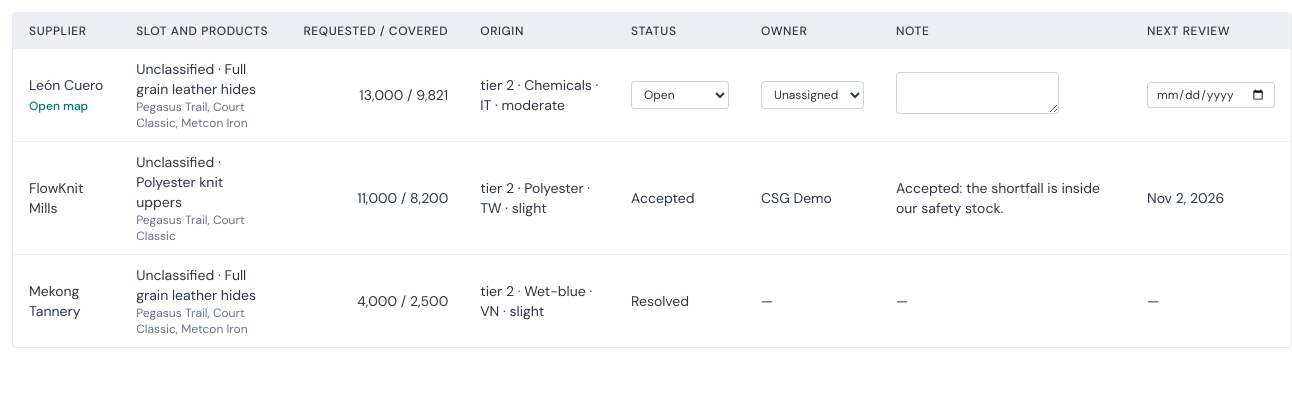
Test: SupplyRisksTable › the owner select (G-32) › a 400 on owner_user_id reverts the select and says so (G-33)
The image size is (1292, 393).
Step 1. Select "Ana Ruiz" in the dropdown named "Owner for León Cuero" → (812, 95), box x1=761 y1=81 x2=864 y2=109
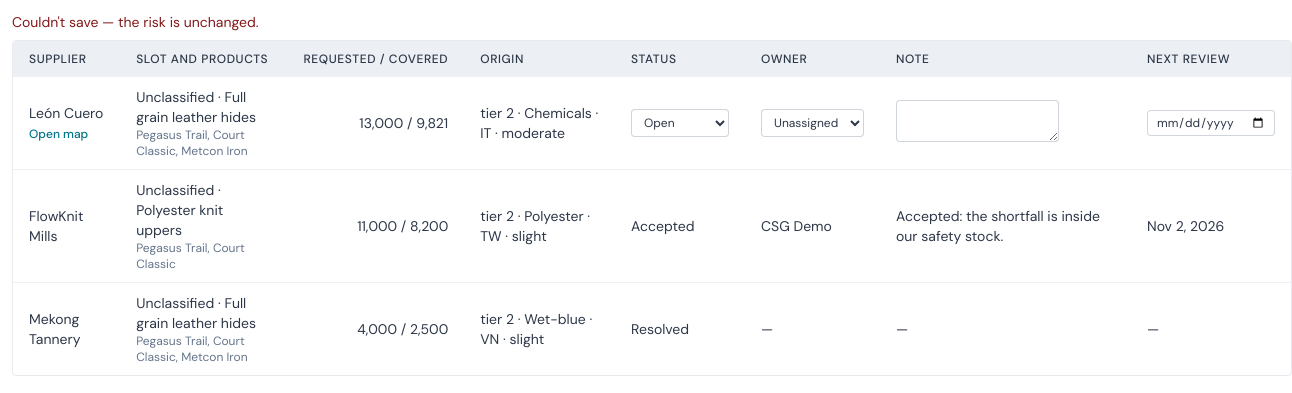
Check: the message reads "Couldn't save — the risk is unchanged.", box x1=12 y1=13 x2=258 y2=31
